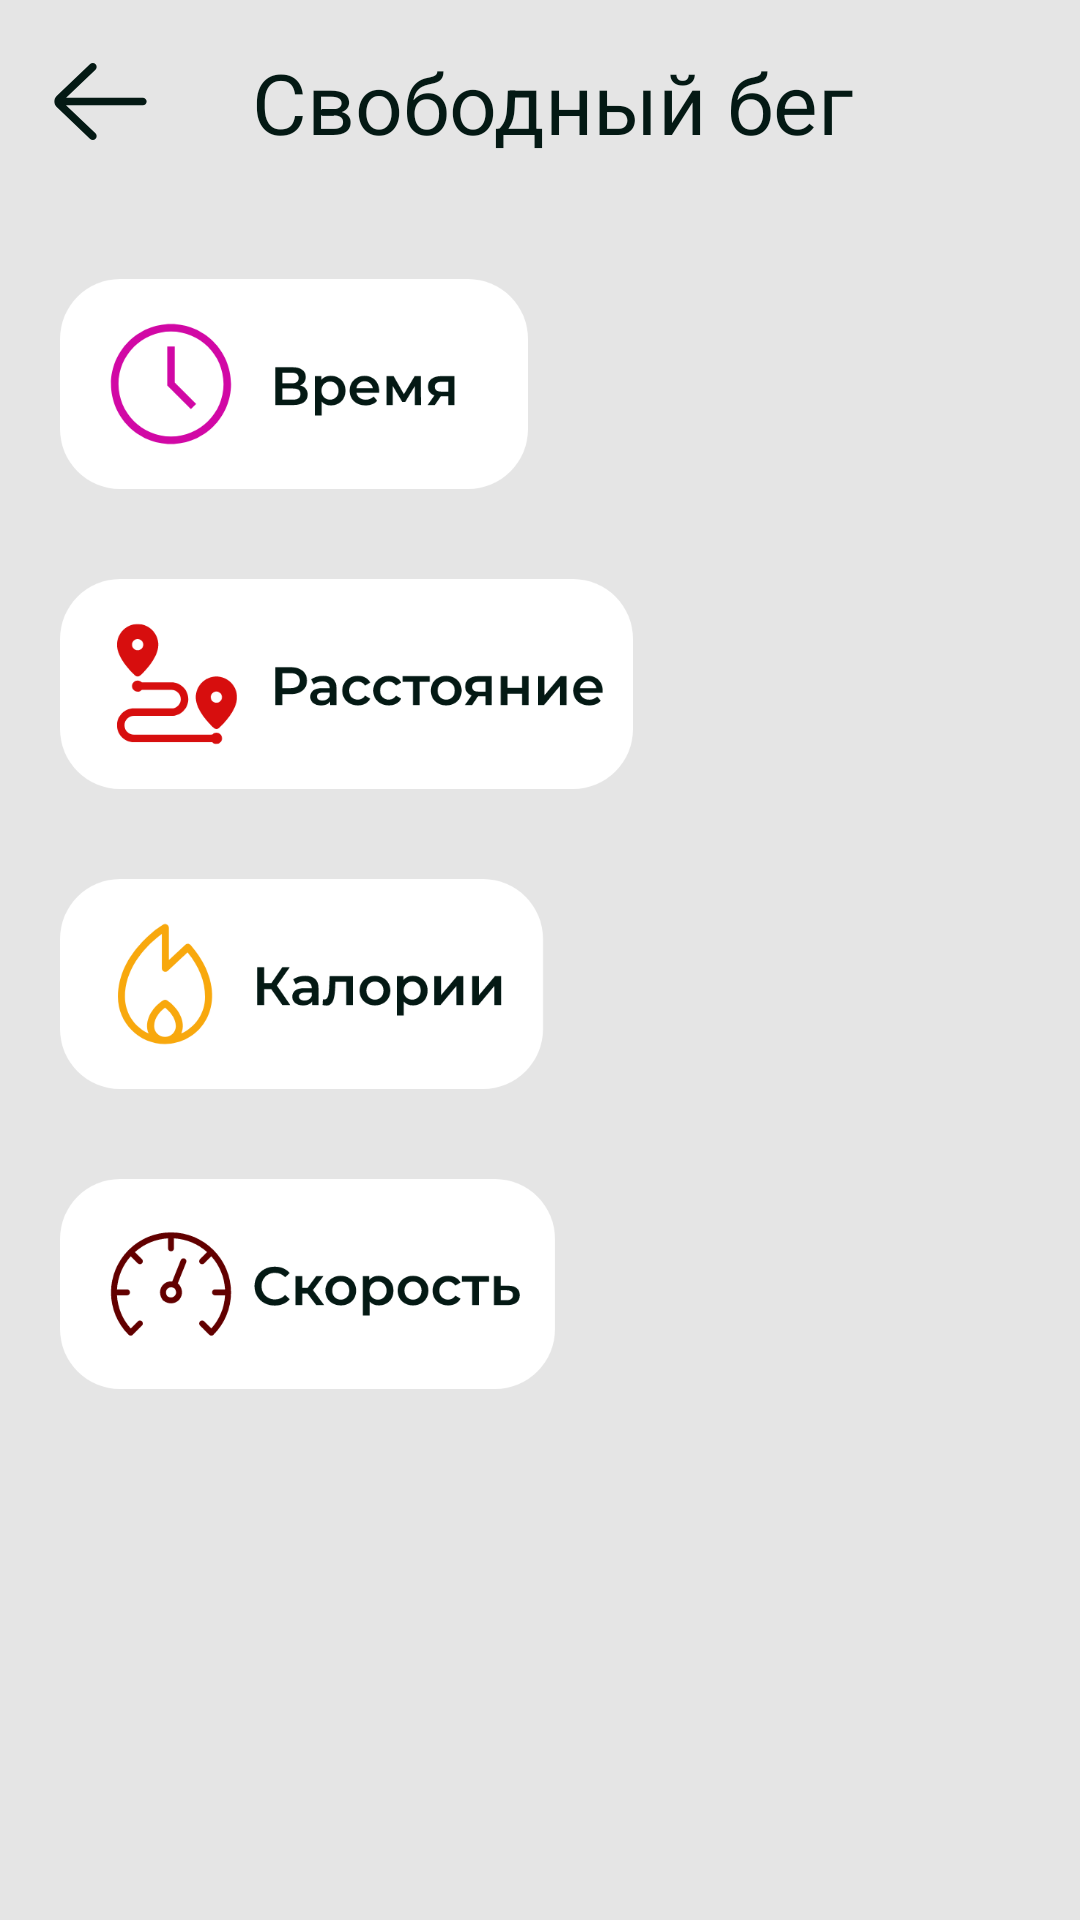

Screen size 1080x1920. Icon name, then its box in pixels as BBox(x1, y1, x2, y2):
left arrow: BBox(54, 63, 147, 140)
